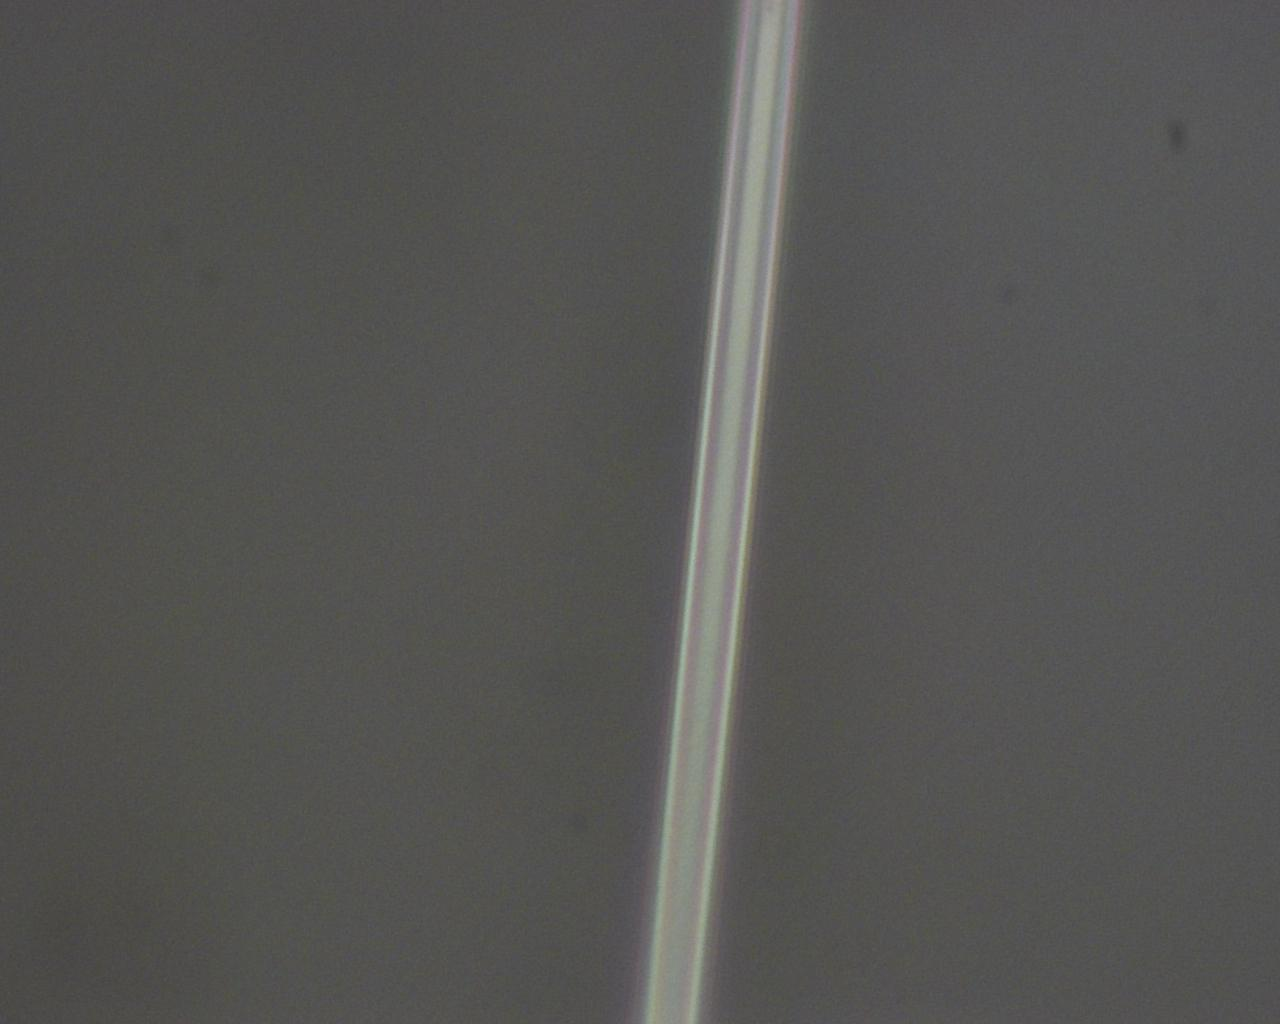fiber: (128, 196, 1152, 619)
